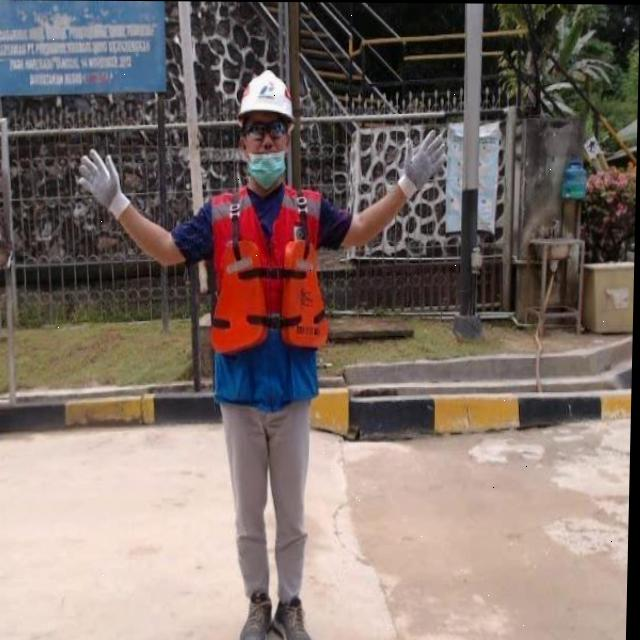Gloves: (75, 148, 132, 220), (399, 127, 448, 199)
Helmet: (236, 68, 296, 123)
Safety-Boot: (275, 595, 317, 640), (241, 590, 275, 640)
Safety-Vest: (207, 182, 333, 354)
